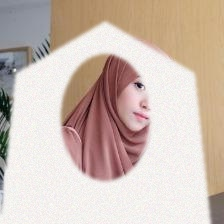Mukena: (0, 36, 215, 224)
